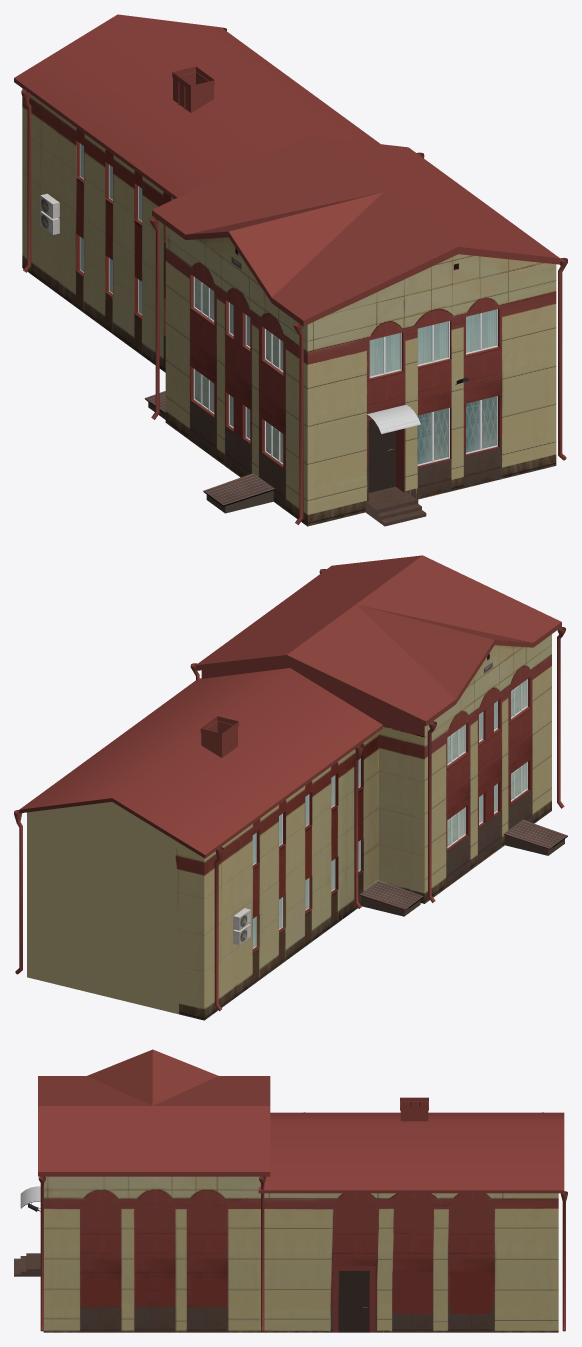
File: building_post.fbx
3 renders of one model, top to bottom at view 1: azimuth 30°, elevation 25°; view 2: azimuth 150°, elevation 25°; view 3: azimuth 270°, elevation 25°, orthographic. The views are drawn at different scales.
Visible parts, largest first — view 1: building_post; view 2: building_post; view 3: building_post.
Boxes of the visible parts, <box> form: building_post: <box>14,14,567,526</box>; building_post: <box>14,555,567,1020</box>; building_post: <box>14,1049,567,1332</box>.
Size of the model in its own units: 8.44 by 6.4 by 17.04.
